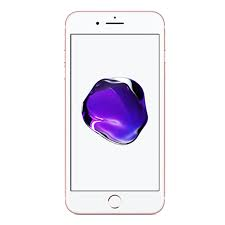iphone: (64, 6, 167, 219)
iphone7: (64, 7, 167, 220)
